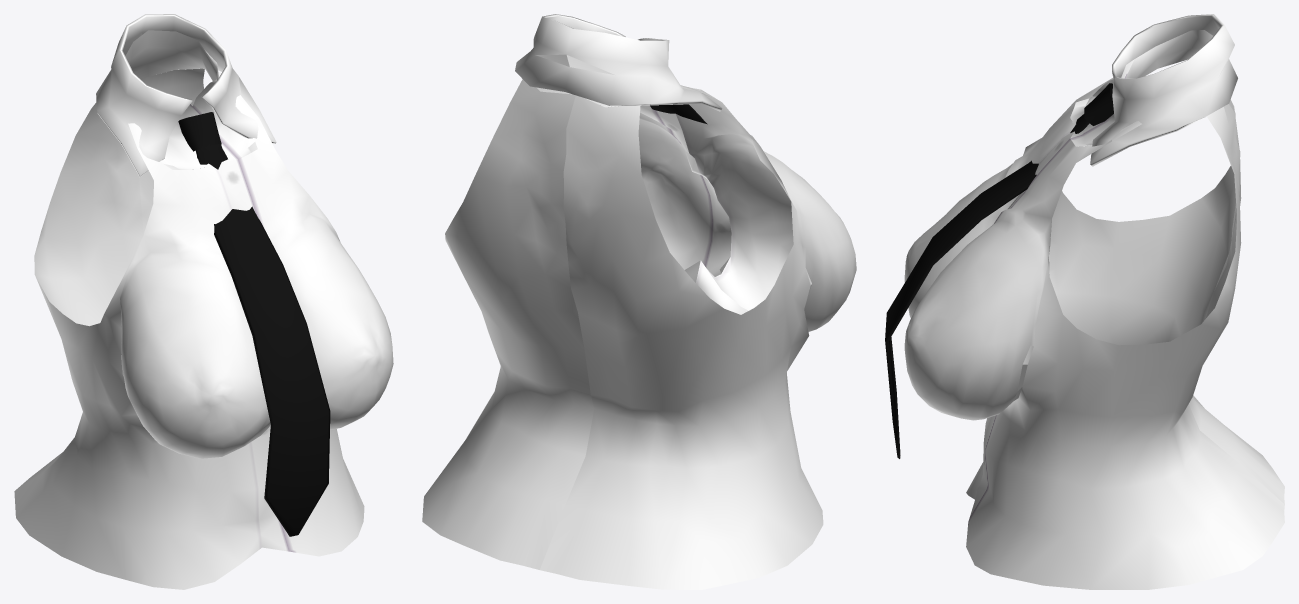
File: top3.fbx
3 renders of one model, left to right at view 1: azimuth 30°, elevation 25°; view 2: azimuth 150°, elevation 25°; view 3: azimuth 270°, elevation 25°, orthographic. The views are drawn at different scales.
Visible parts, largest first — view 1: カスタム少女_mesh; view 2: カスタム少女_mesh; view 3: カスタム少女_mesh.
Boxes of the visible parts, left/top/right/bottom form: カスタム少女_mesh: left=14, top=14, right=393, bottom=589; カスタム少女_mesh: left=422, top=14, right=856, bottom=589; カスタム少女_mesh: left=885, top=14, right=1284, bottom=589.
Size of the model in its own units: 29.78 by 44.04 by 31.94.
Materials: 3 (3 with a texture image).
